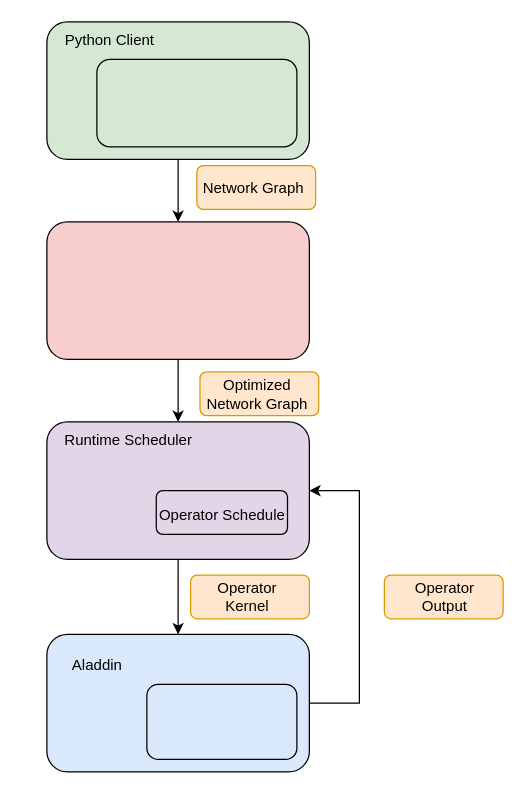
The diagram is 525 pixels wide and 794 high, and some of its shapes have lost their labels. Here are the shapes that lost their labels. From the top down, the box of each, then its label:
(96, 58, 297, 147): High Level Model Description
(46, 221, 309, 359): Tiling and Data Layout Optimizer
(146, 683, 297, 759): NVDLA
